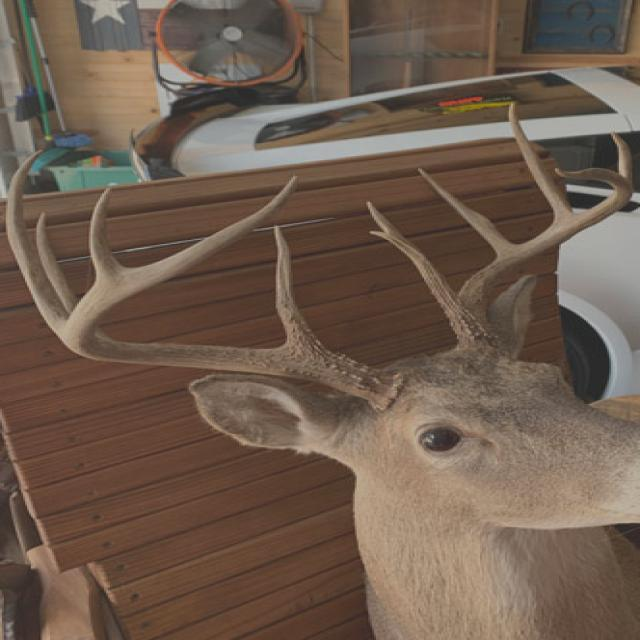E1: (369, 231, 392, 243)
E3: (610, 130, 632, 189)
L-F: (457, 167, 633, 349)
L-G1: (366, 199, 476, 334)
L-G2: (417, 167, 515, 256)
L-G3: (508, 101, 573, 220)
R-F: (59, 174, 404, 411)
R-G1: (273, 226, 325, 348)
R-G3: (5, 148, 68, 337)
R-G4: (88, 188, 123, 280)
